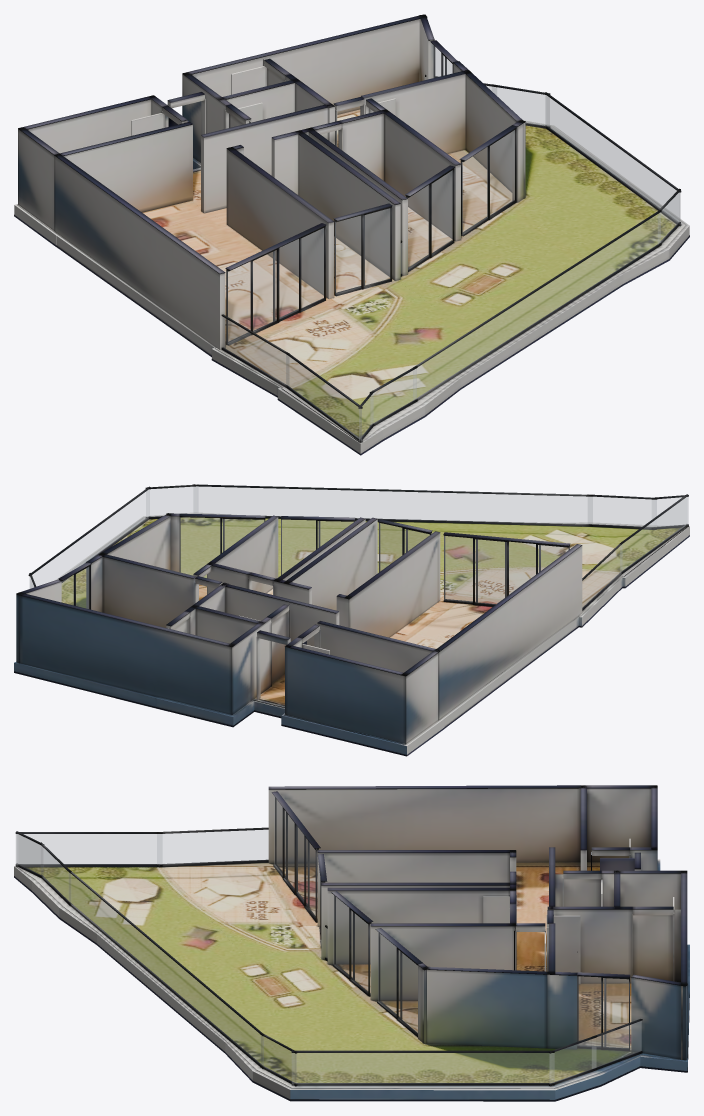
The picture shows the model from 3 angles, top to bottom: view 1: azimuth 30°, elevation 25°; view 2: azimuth 150°, elevation 25°; view 3: azimuth 270°, elevation 25°; orthographic projection. The views are drawn at different scales.
Parts seen in each view (by area): view 1: plan, railg7_m, glass4_m, railg4_m, glass3_m, glass1_m, glass2_m, railg5_m, railg0_m, railg8_m, railg3_m, railg6_m; view 2: plan, railg7_m, glass4_m, railg4_m, glass1_m, glass2_m, railg8_m, railg5_m, railg6_m, glass3_m, railg0_m, railg9_m (+1 smaller); view 3: plan, railg4_m, railg7_m, railg5_m, railg0_m, glass0_m, glass1_m, glass4_m, glass2_m, railg2_m, railg3_m, railg6_m (+2 smaller).
Boxes of the visible parts, x1,y1,x2,y2 form: plan: [14, 14, 689, 455]; railg7_m: [413, 212, 660, 400]; glass4_m: [227, 228, 323, 342]; railg4_m: [546, 95, 680, 223]; glass3_m: [335, 208, 389, 293]; glass1_m: [462, 130, 514, 233]; glass2_m: [408, 171, 452, 269]; railg5_m: [286, 355, 361, 439]; railg0_m: [222, 317, 289, 386]; railg8_m: [371, 368, 416, 424]; railg3_m: [492, 87, 549, 126]; railg6_m: [658, 193, 679, 244]; plan: [14, 484, 689, 756]; railg7_m: [194, 486, 592, 524]; glass4_m: [444, 536, 568, 604]; railg4_m: [29, 490, 149, 588]; glass1_m: [180, 517, 263, 577]; glass2_m: [281, 520, 353, 574]; railg8_m: [588, 497, 656, 526]; railg5_m: [620, 497, 686, 572]; railg6_m: [146, 486, 198, 516]; glass3_m: [379, 523, 429, 571]; railg0_m: [582, 545, 622, 607]; railg9_m: [652, 497, 688, 526]; plan: [14, 785, 689, 1101]; railg4_m: [292, 1053, 554, 1082]; railg7_m: [69, 873, 263, 1066]; railg5_m: [16, 834, 162, 864]; railg0_m: [157, 830, 268, 864]; glass0_m: [577, 976, 628, 1047]; glass1_m: [378, 932, 417, 1033]; glass4_m: [274, 797, 315, 916]; glass2_m: [333, 895, 370, 993]; railg2_m: [592, 1021, 641, 1068]; railg3_m: [549, 1038, 596, 1083]; railg6_m: [261, 1035, 296, 1083].
Bounding box in the file's own units: 15.11 × 2.62 × 18.66.
2 materials, 1 textured.
